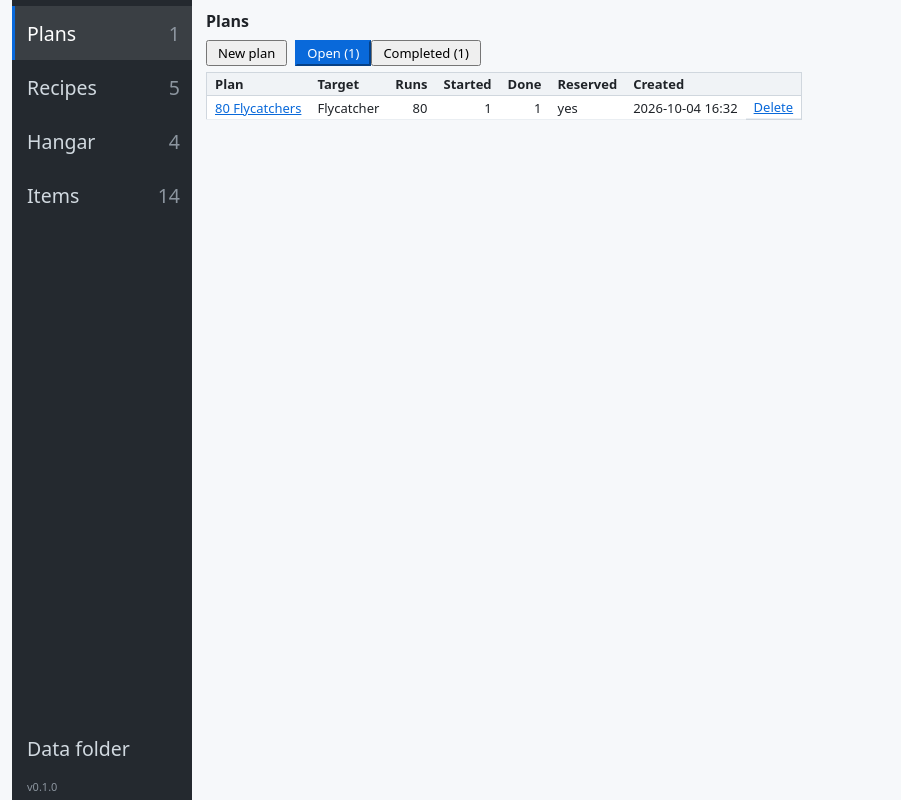
RecipesSection › refuses to delete a recipe an open plan builds, naming the plan, in the row, without asking first
The width and height of the screenshot is (901, 800).
Click the button "Recipes 5" at (102, 87), box [12,60,192,114]
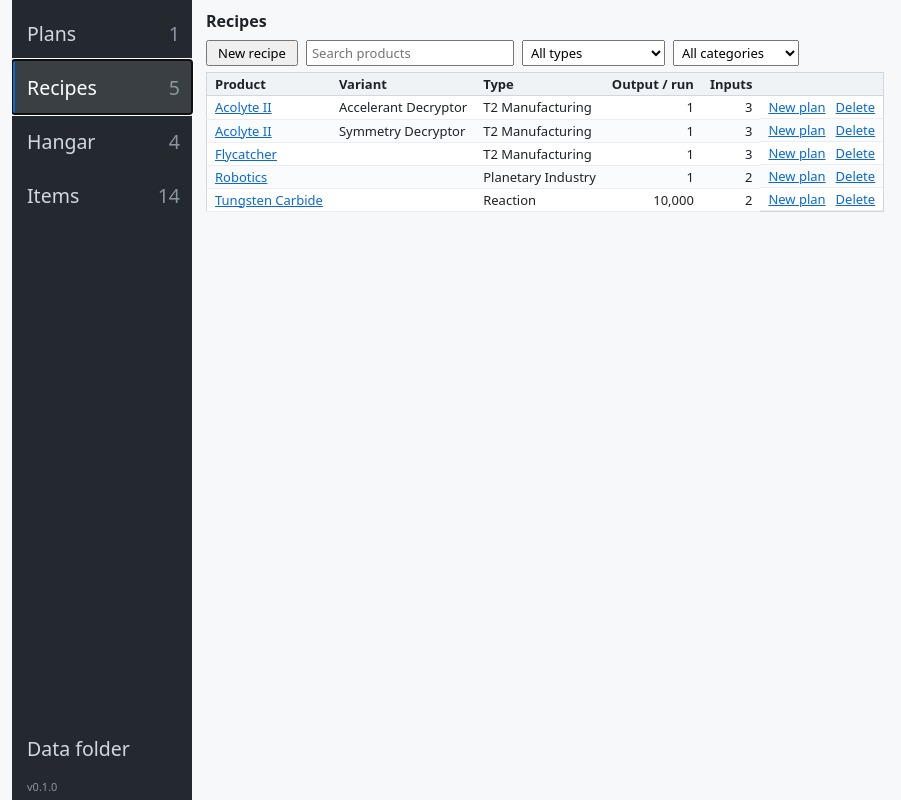
Click the 3rd button "Delete" at (855, 153), box [836,144,875,162]
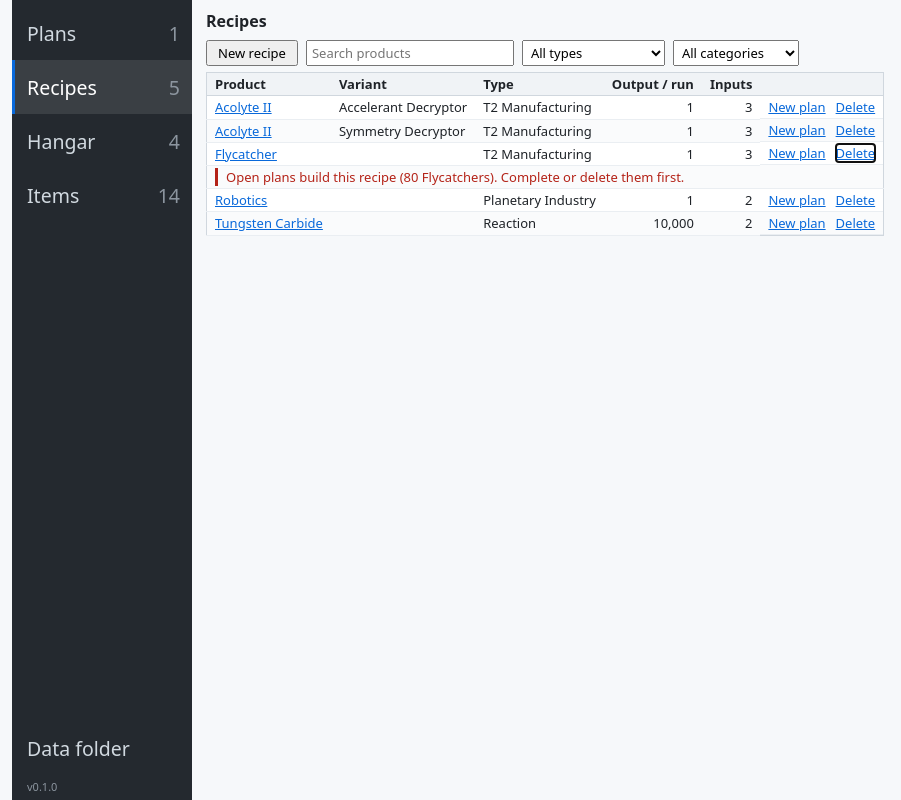
Check: the message reads "Open plans build this recipe (80 Flycatchers). Complete or delete them first.", box [226,168,684,186]
